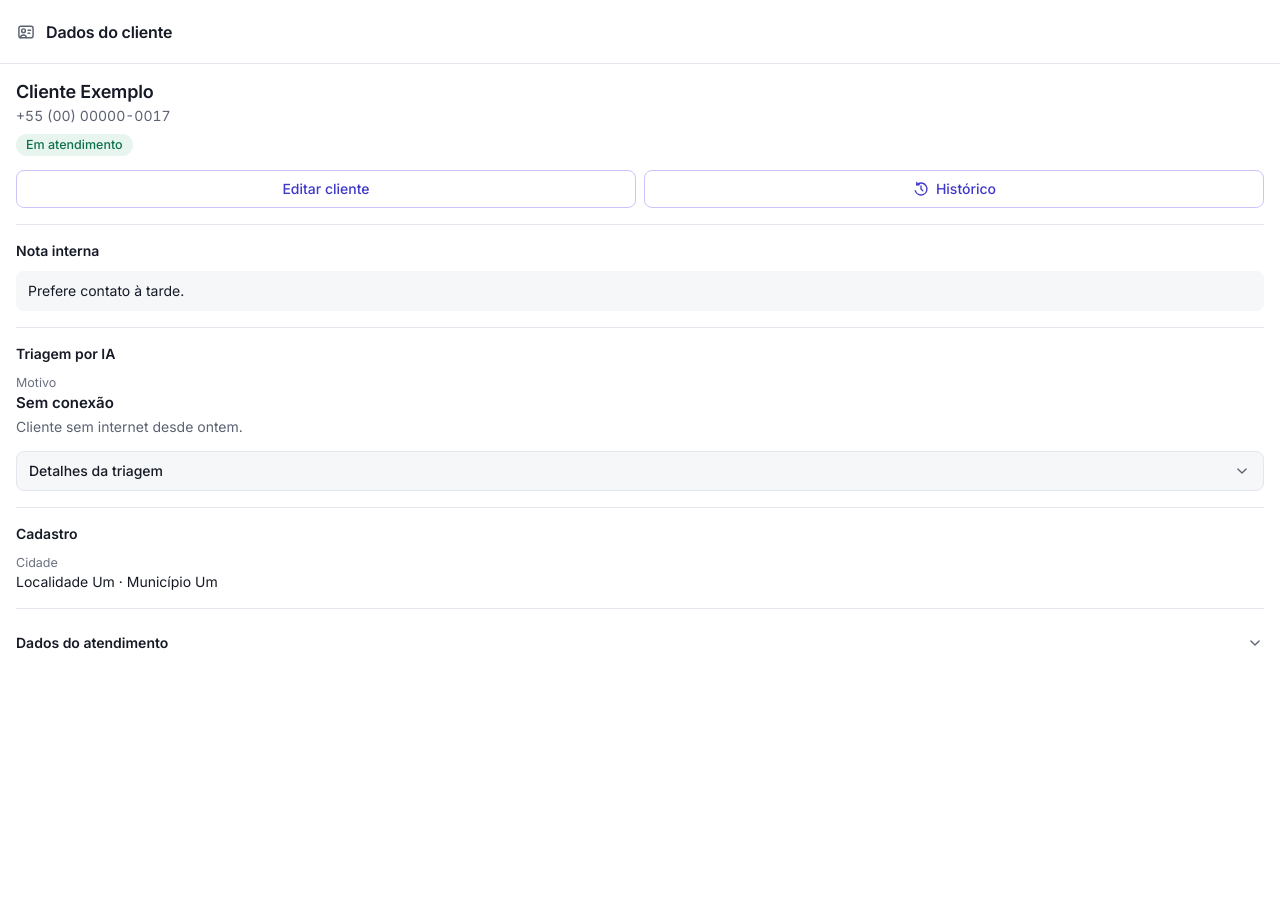
Test: PainelDadosCliente — triagem › identificação memory aparece como "memória"
Click the button "Detalhes da triagem" at [96, 470], box [16, 451, 1264, 491]
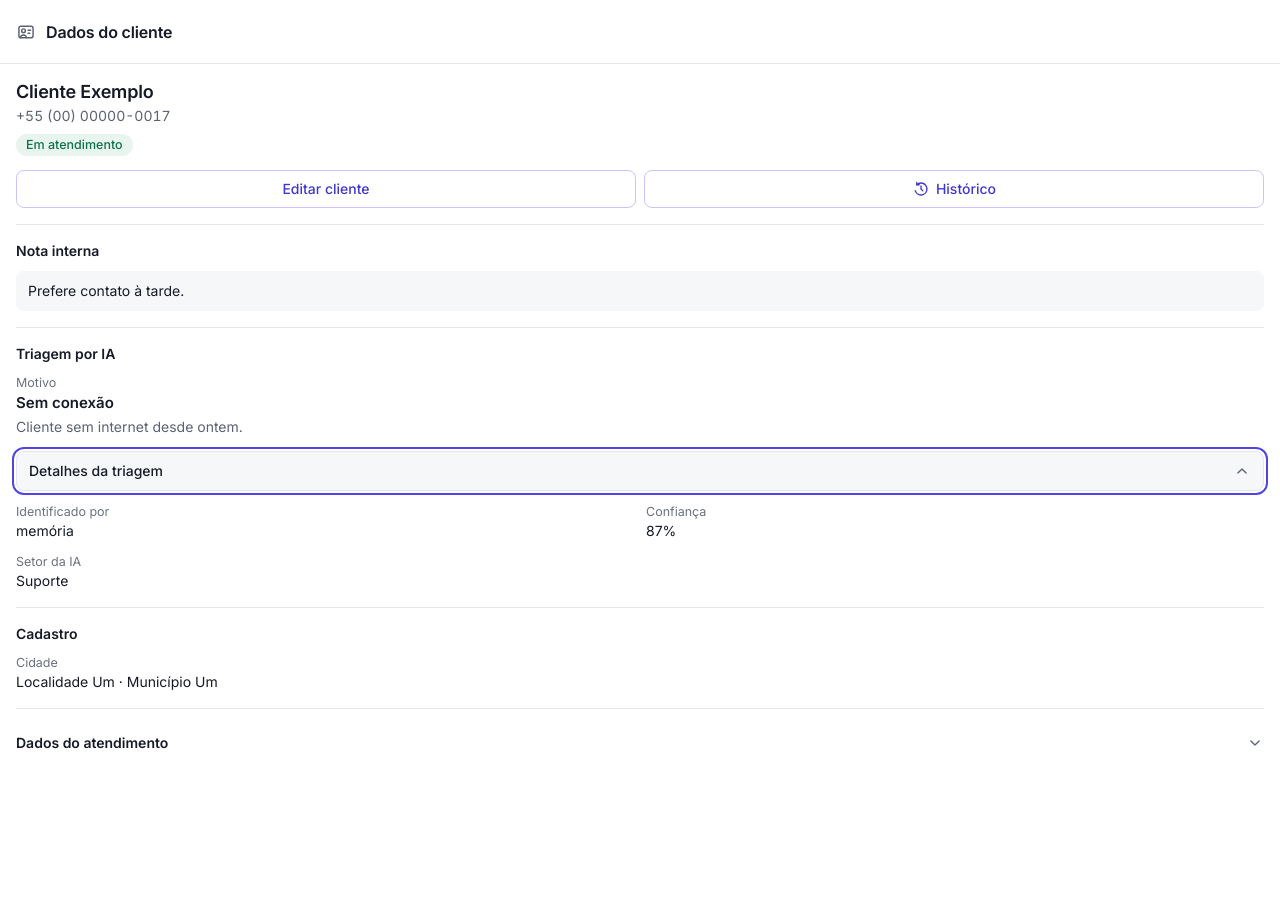
Check: the text "memória" is shown, box [16, 522, 74, 539]
